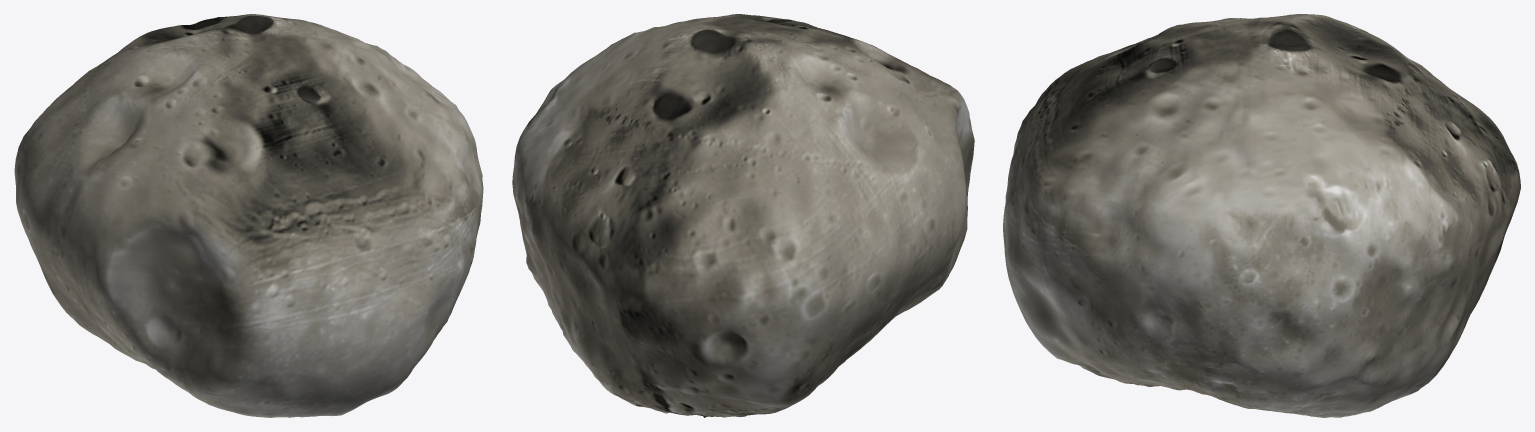
File: Phobos.obj
3 views of the same model, side by side, from view 1: azimuth 30°, elevation 25°; view 2: azimuth 150°, elevation 25°; view 3: azimuth 270°, elevation 25° (orthographic). The views are drawn at different scales.
Visible parts, largest first — view 1: PhobosMesh; view 2: PhobosMesh; view 3: PhobosMesh.
Part boxes in pixels (x1=…): PhobosMesh: x1=14, y1=14, x2=483, y2=417; PhobosMesh: x1=512, y1=14, x2=974, y2=417; PhobosMesh: x1=1003, y1=14, x2=1520, y2=417.
Size of the model in its own units: 24.37 by 20.52 by 27.04.
